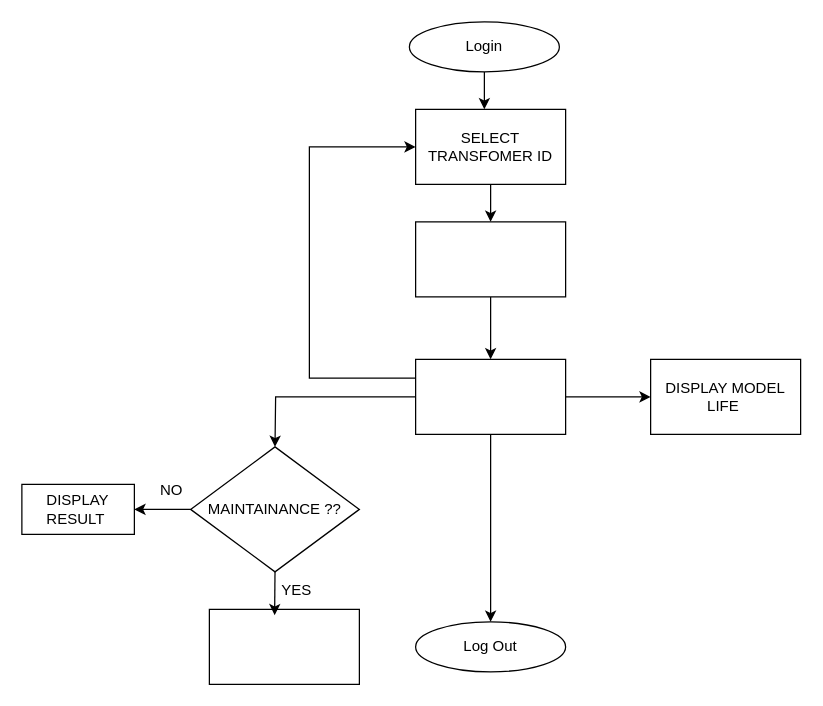
This 823x706 diagram has some shape labels left out. The shapes that lost their labels are listed below. From the top down, each one's box as (x1, y1, x2, y2) in pixels, then its label:
(414, 221, 566, 297): INPUT REQUIRED DATA
(414, 358, 566, 434): REGRESSION MODEL PREIDICT RESULT
(208, 608, 359, 684): DISPLAY RESULT AND REPORT ON WHATSAPP
